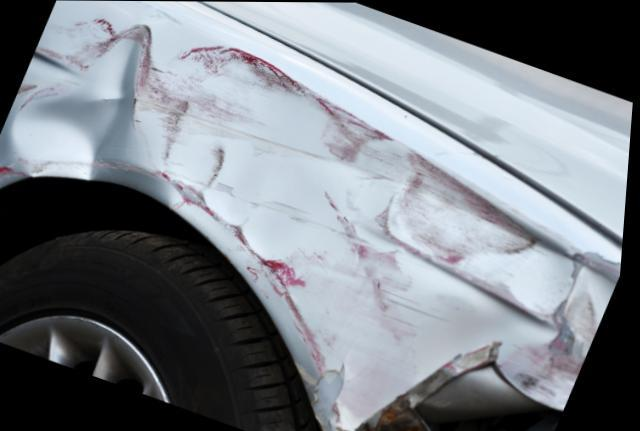dent: (166, 55, 624, 431), (12, 24, 148, 179)
scratch: (108, 37, 305, 214), (0, 13, 118, 192)
